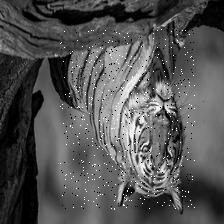tiger: (61, 28, 196, 209)
